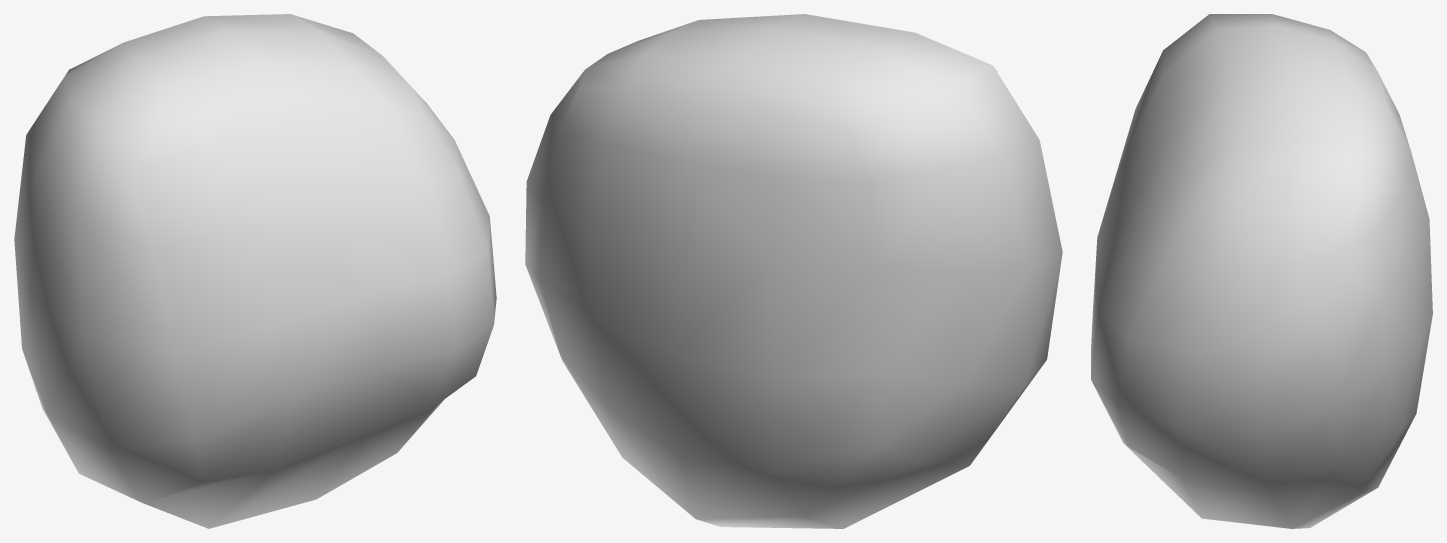
The model's file is Cloud 5.fbx.
3 views of the same model, side by side, from view 1: azimuth 30°, elevation 25°; view 2: azimuth 150°, elevation 25°; view 3: azimuth 270°, elevation 25° (orthographic). The views are drawn at different scales.
Parts seen in each view (by area): view 1: Group8411; view 2: Group8411; view 3: Group8411.
Boxes of the visible parts, box(x1,y1,x2,y2) form: Group8411: box(14, 14, 496, 528); Group8411: box(525, 14, 1062, 528); Group8411: box(1091, 14, 1432, 528).
Bounding box in the file's own units: 0.8961 × 0.9031 × 0.6308.
1 material, 1 textured.
